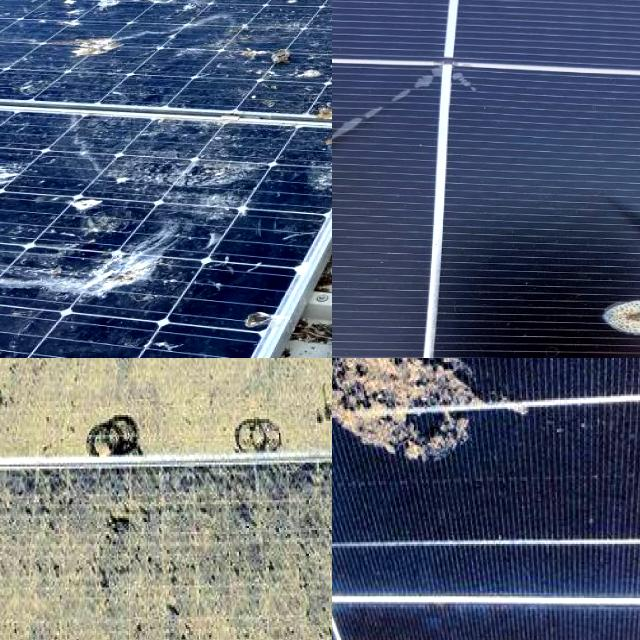bird: (332, 358, 503, 493), (52, 252, 185, 302), (34, 186, 146, 223), (232, 36, 317, 78), (61, 30, 122, 64), (222, 303, 292, 331), (254, 0, 332, 19), (142, 0, 221, 14), (0, 120, 35, 146), (0, 0, 28, 25), (0, 0, 26, 14)
dust: (120, 467, 315, 640), (0, 467, 108, 640), (169, 358, 317, 484), (16, 358, 162, 480), (45, 358, 325, 407), (0, 529, 49, 640), (0, 358, 90, 402), (0, 358, 29, 492), (0, 358, 25, 495), (0, 358, 16, 447)
shadow: (573, 254, 640, 358)
